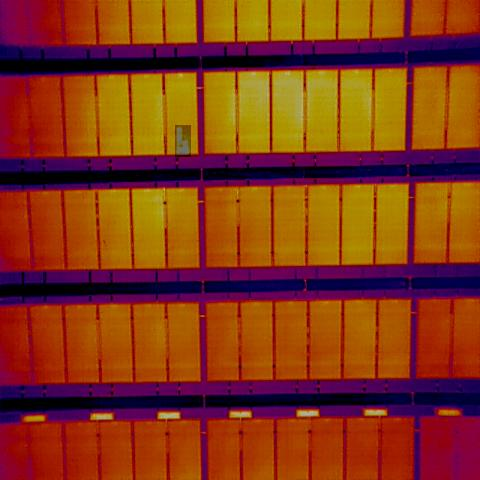fault: (175, 125, 191, 157)
